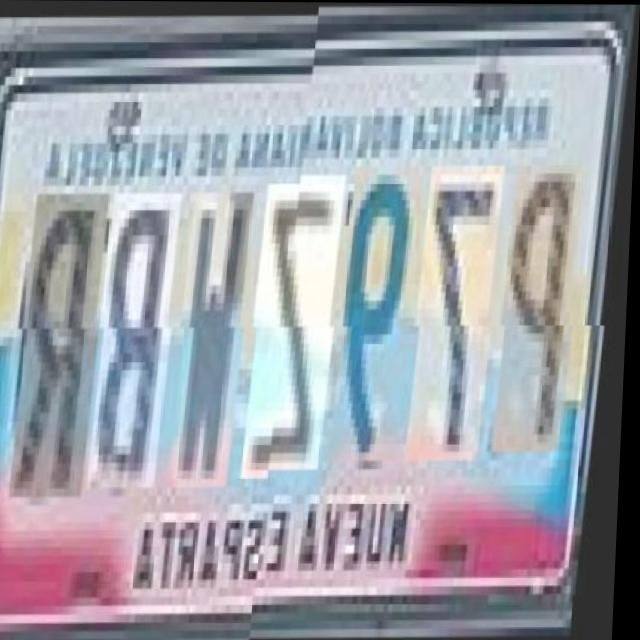7: (411, 172, 509, 468)
9: (334, 173, 427, 469)
b: (93, 190, 186, 486)
p: (497, 172, 590, 460)
r: (16, 192, 114, 497)
w: (174, 190, 258, 486)
z: (247, 181, 350, 477)
